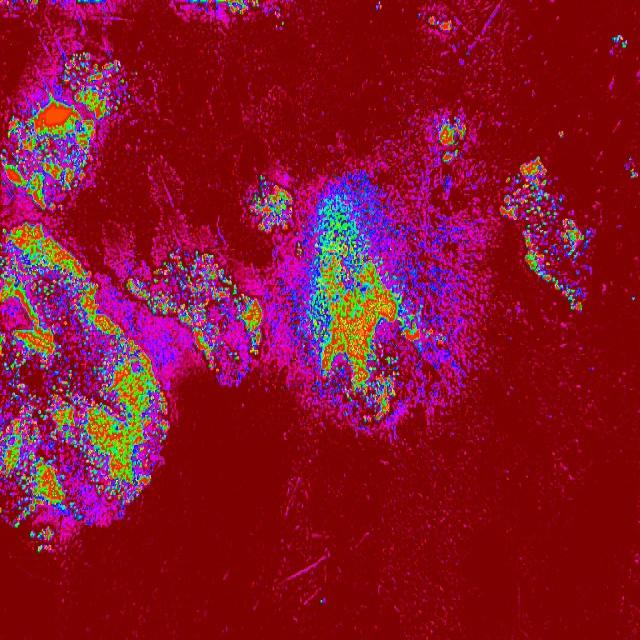fire: (292, 172, 476, 436), (0, 318, 128, 528), (4, 50, 133, 216), (126, 244, 268, 376), (502, 154, 592, 311), (0, 221, 106, 317), (128, 377, 171, 505), (244, 169, 290, 237), (432, 110, 472, 162), (418, 8, 455, 38), (189, 0, 260, 12), (28, 527, 56, 553), (621, 154, 637, 181), (608, 31, 630, 50), (272, 8, 286, 26), (70, 0, 110, 6), (318, 594, 329, 608), (374, 0, 384, 14), (22, 0, 39, 6), (558, 129, 565, 140), (630, 292, 636, 304)
